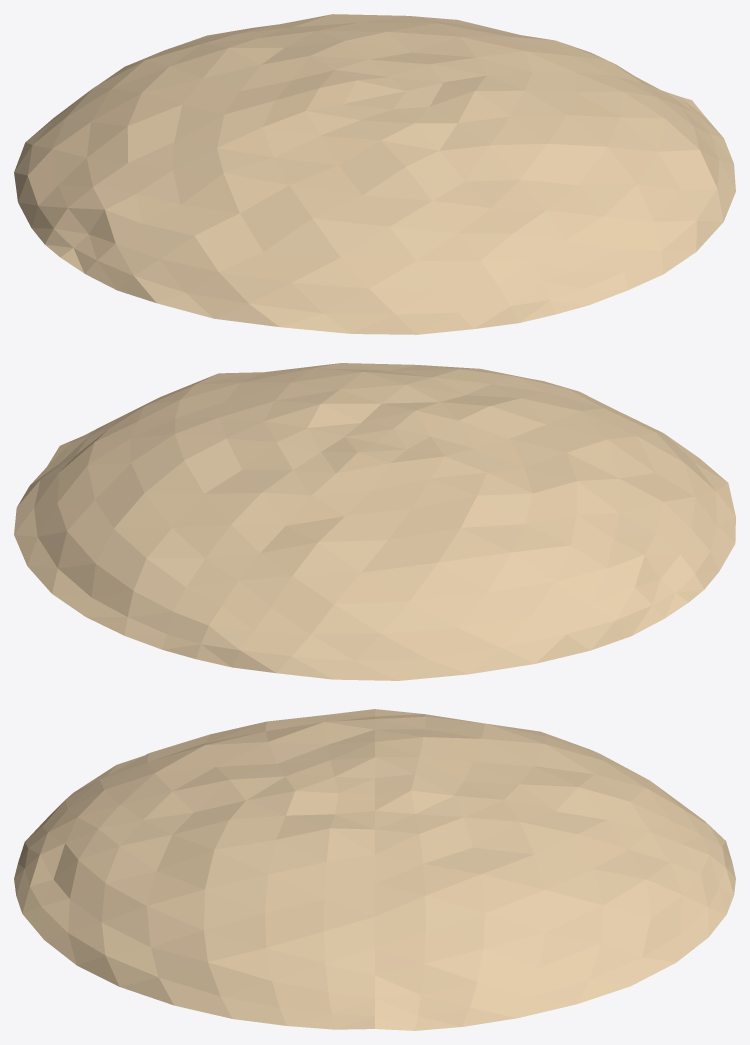
Rendered from ground.fbx.
3 renders of one model, top to bottom at view 1: azimuth 30°, elevation 25°; view 2: azimuth 150°, elevation 25°; view 3: azimuth 270°, elevation 25°, orthographic.
Parts seen in each view (by area): view 1: 球体_1; view 2: 球体_1; view 3: 球体_1.
Part boxes in pixels (x1,y1,x2,y2): 球体_1: (14,14,735,334); 球体_1: (14,363,735,680); 球体_1: (14,709,735,1030).
Size of the model in its own units: 669 by 94.17 by 663.
